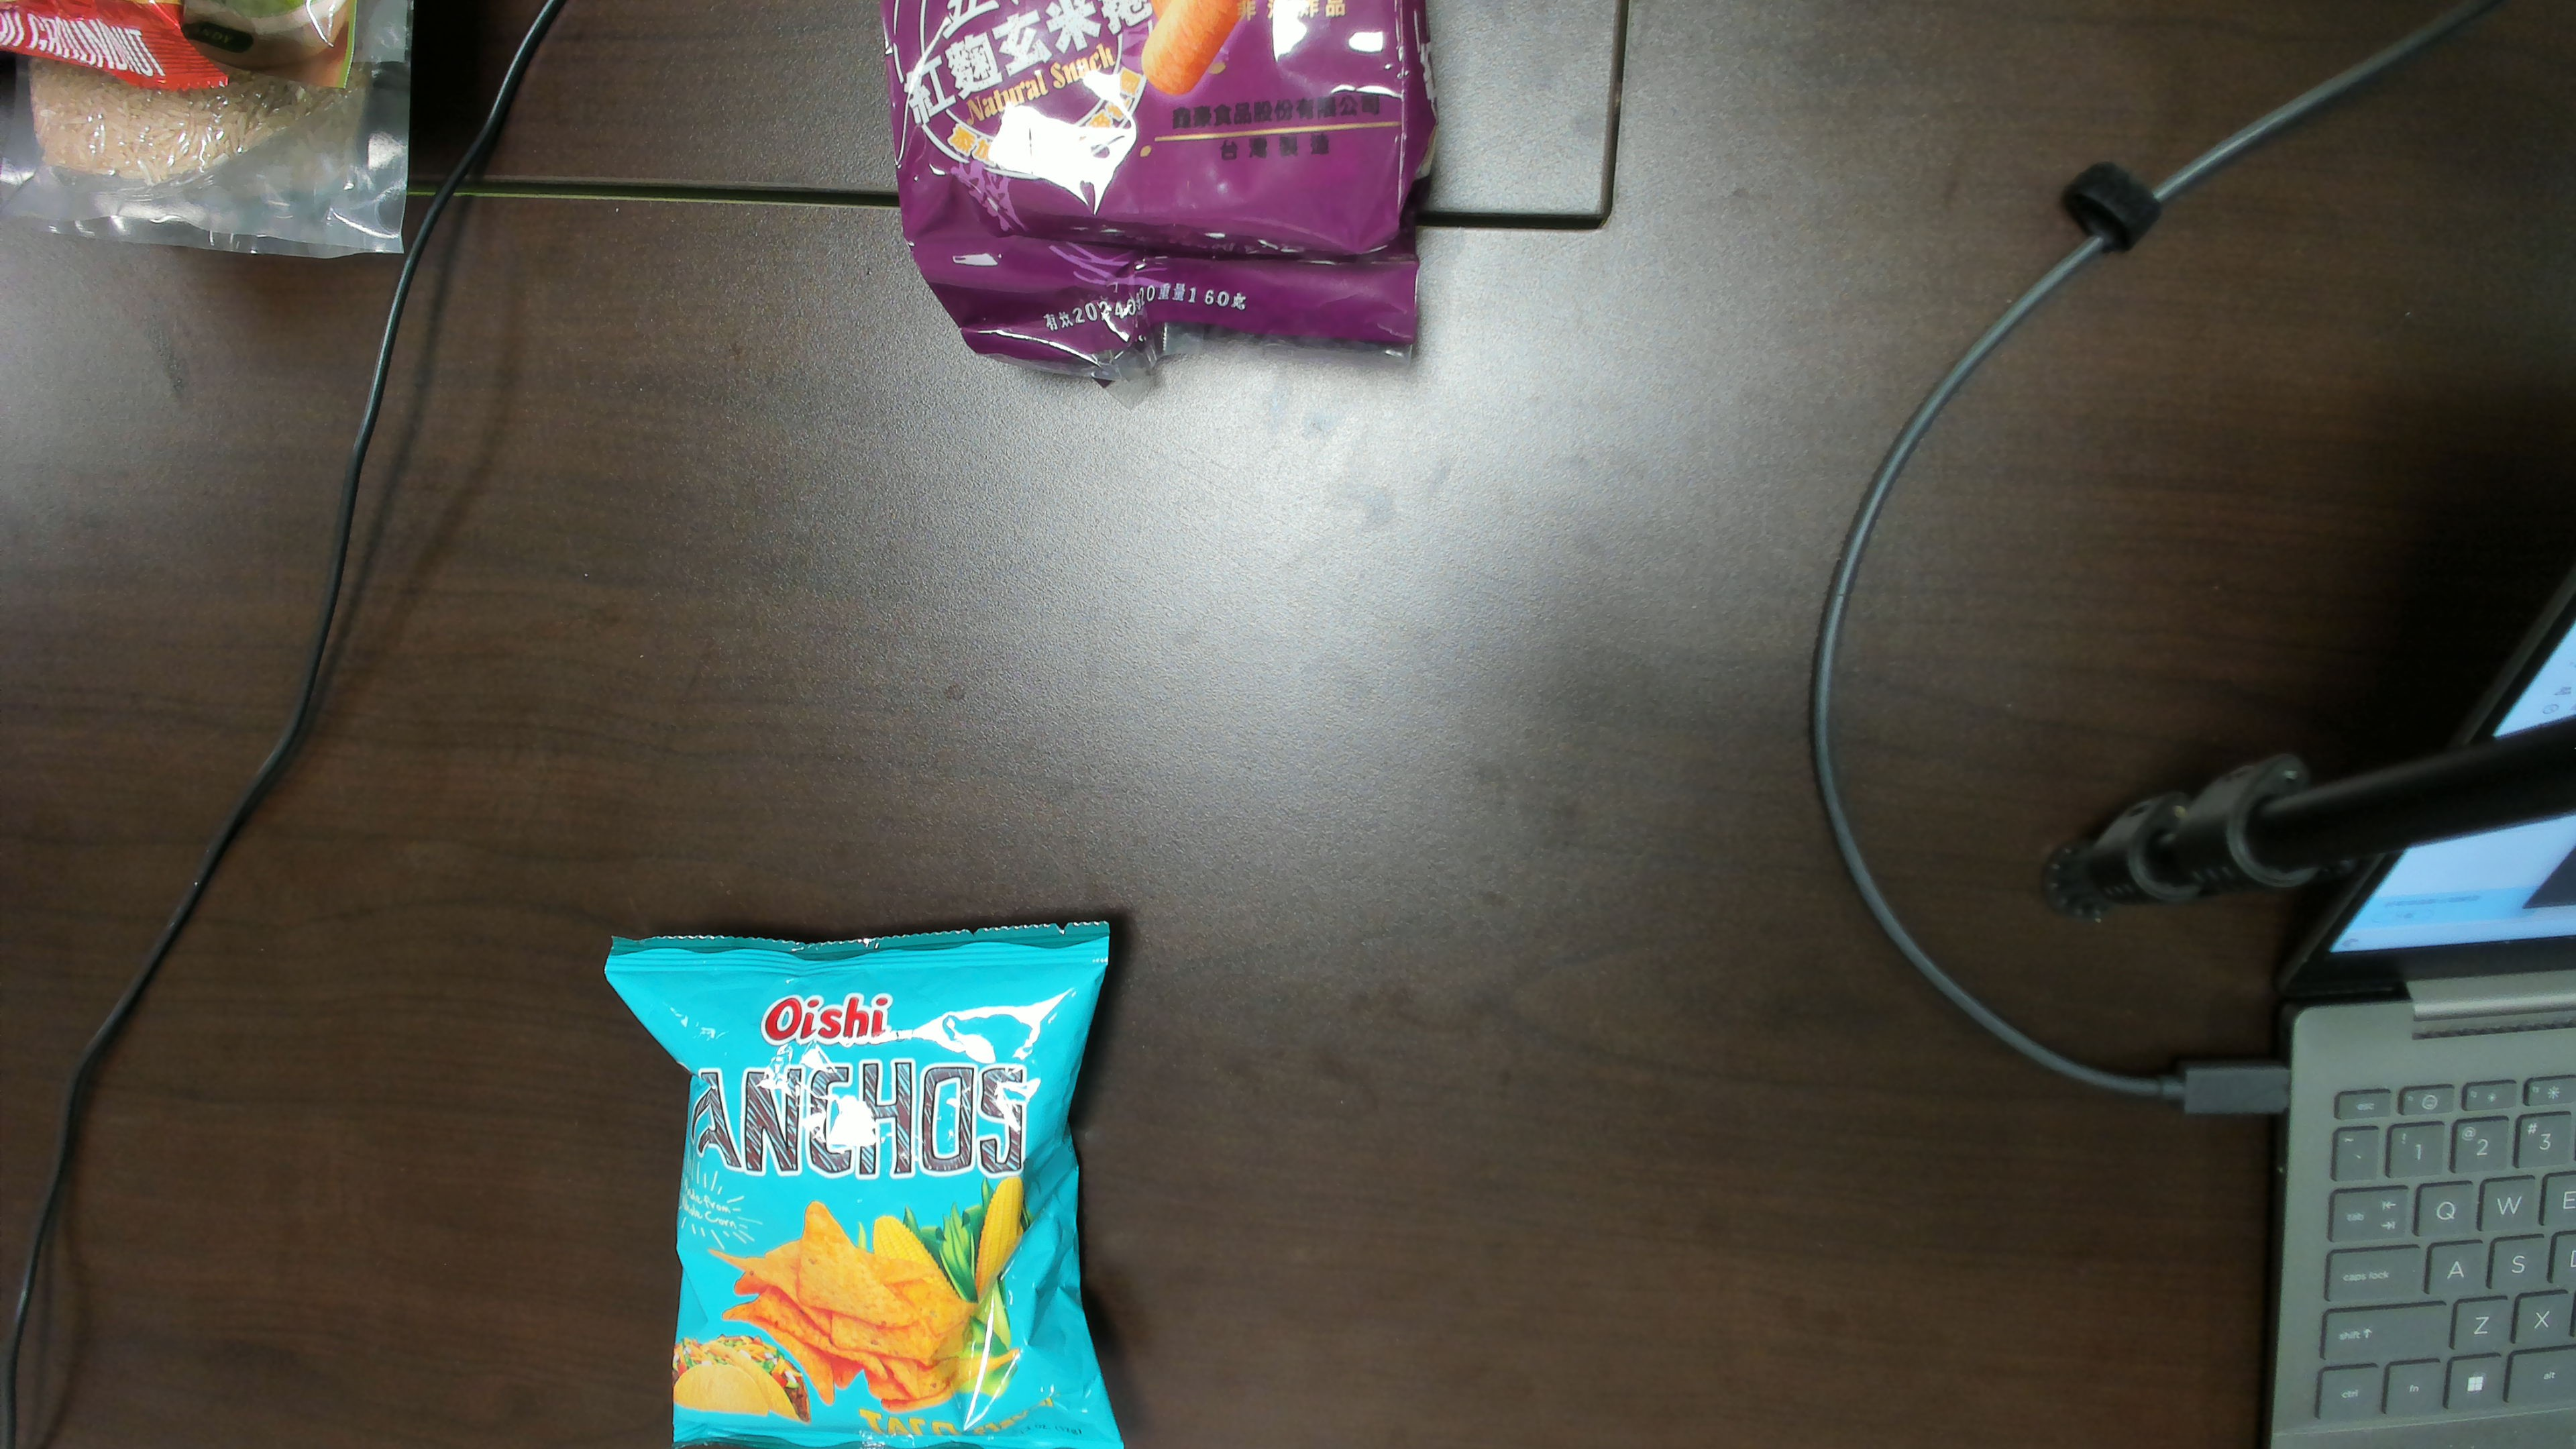PotatochipsKeropok_1-99g_NonHalal_NonHealthy: (683, 954, 1077, 1449)
